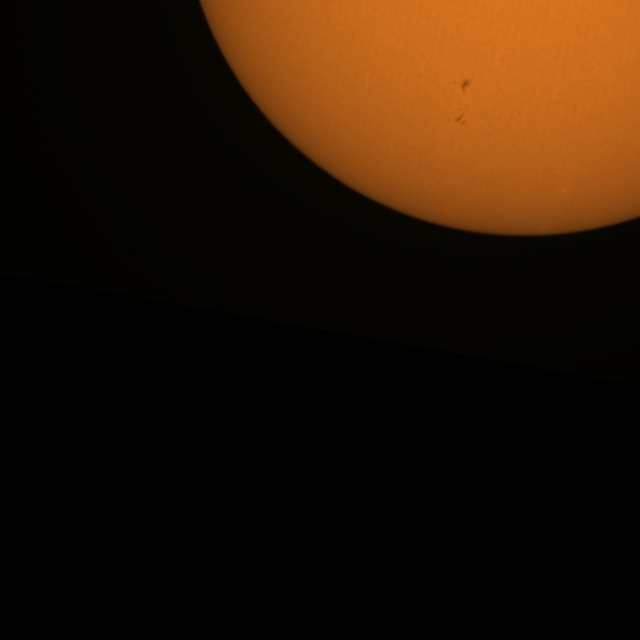sunspot: (446, 111, 468, 126), (452, 77, 472, 93)
